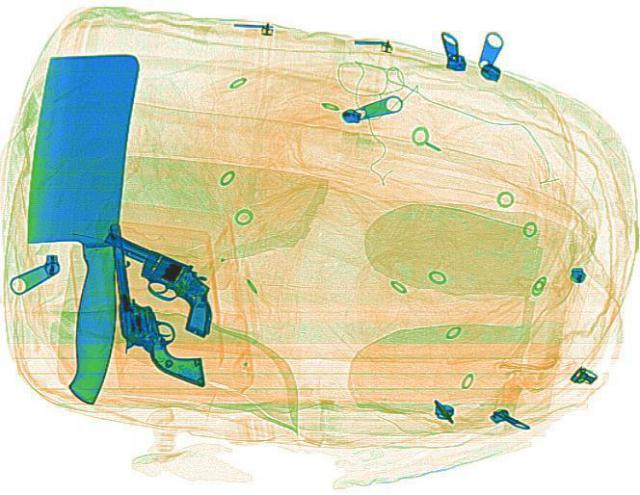Gun: (67, 225, 247, 338), (108, 219, 202, 386)
Knife: (24, 52, 138, 403)
